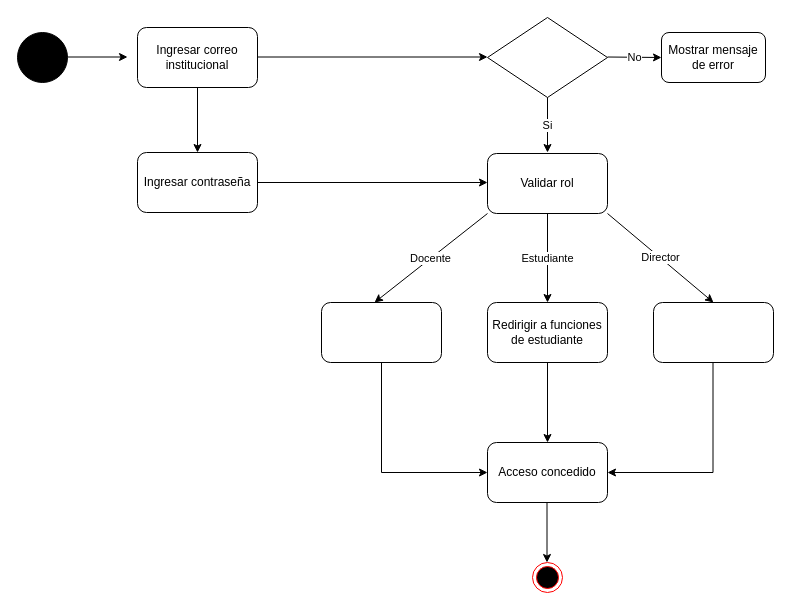
Some shapes in this 791 by 610 pixel diagram are drawn without their labels. The shapes that lost their labels are listed below. From the top down, each one's centre as x and y in pixels, then its label:
pixel 547 57: Credenciales validas?
pixel 381 332: Redirigir a funciones de docente
pixel 713 332: Redirigir a funciones de director
